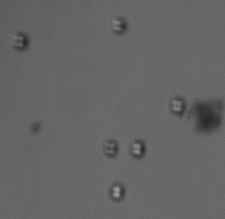Dead Cell: (12, 33, 28, 50), (103, 140, 117, 157)
Living Cell: (129, 140, 148, 159), (169, 96, 186, 114), (110, 183, 125, 200), (112, 18, 125, 33)
